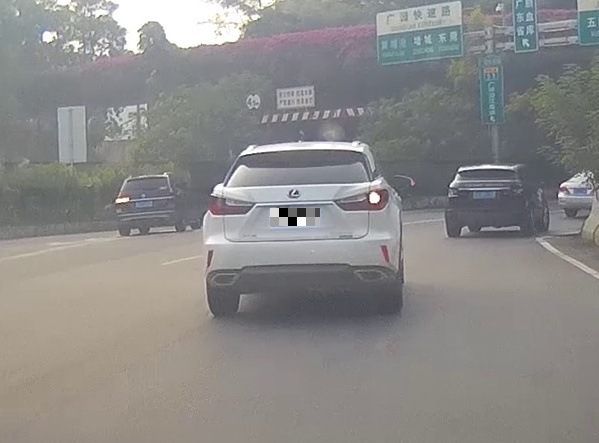L_light: (209, 195, 255, 215), (447, 188, 459, 197), (116, 197, 129, 203)
R_light: (334, 188, 389, 211), (510, 187, 523, 196), (161, 191, 175, 197)
T_light: (289, 149, 309, 153), (482, 168, 492, 172), (140, 177, 150, 180)
day-left: (115, 174, 177, 236)
day-no: (445, 163, 524, 237)
day-right: (203, 141, 403, 317)
plate_1: (270, 208, 320, 226)
